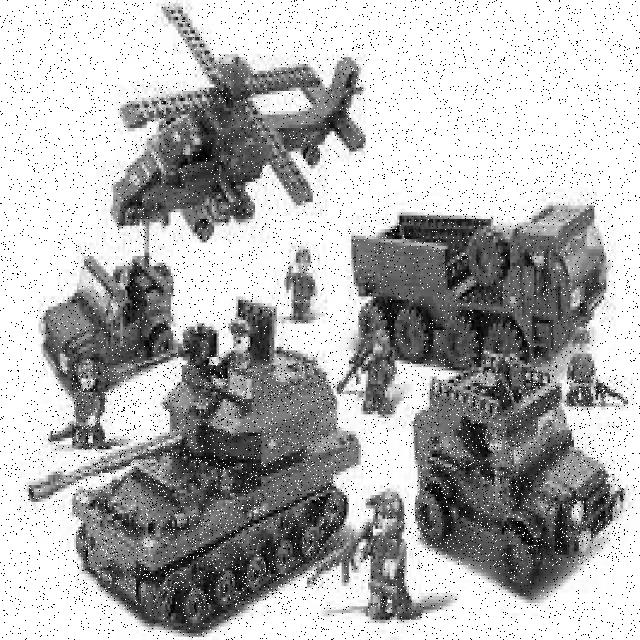MIL_MBT: (74, 363, 336, 608), (415, 372, 621, 567)
